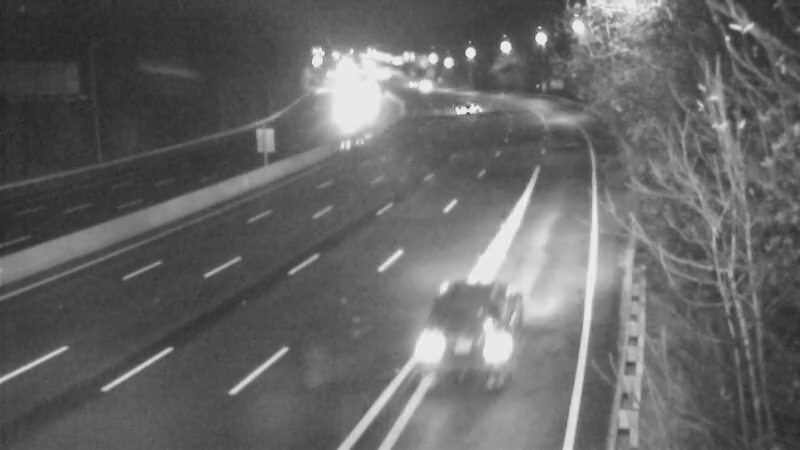vehicle: (415, 292, 525, 402), (440, 79, 490, 129)
